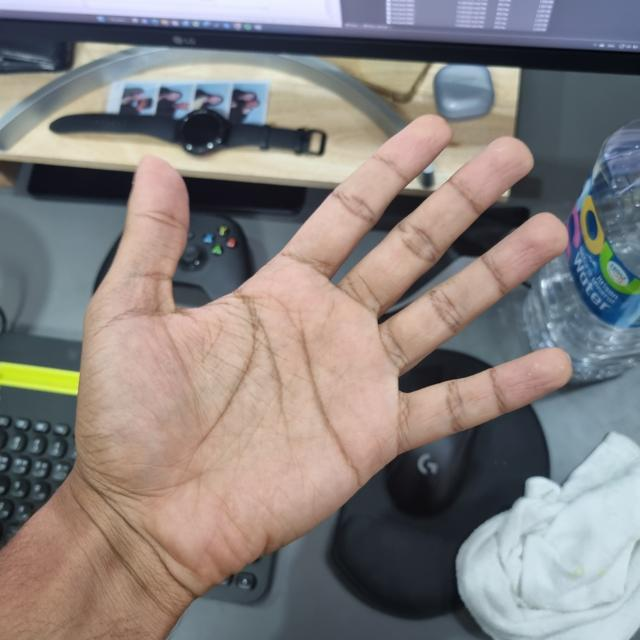Paper: (74, 114, 572, 582)
